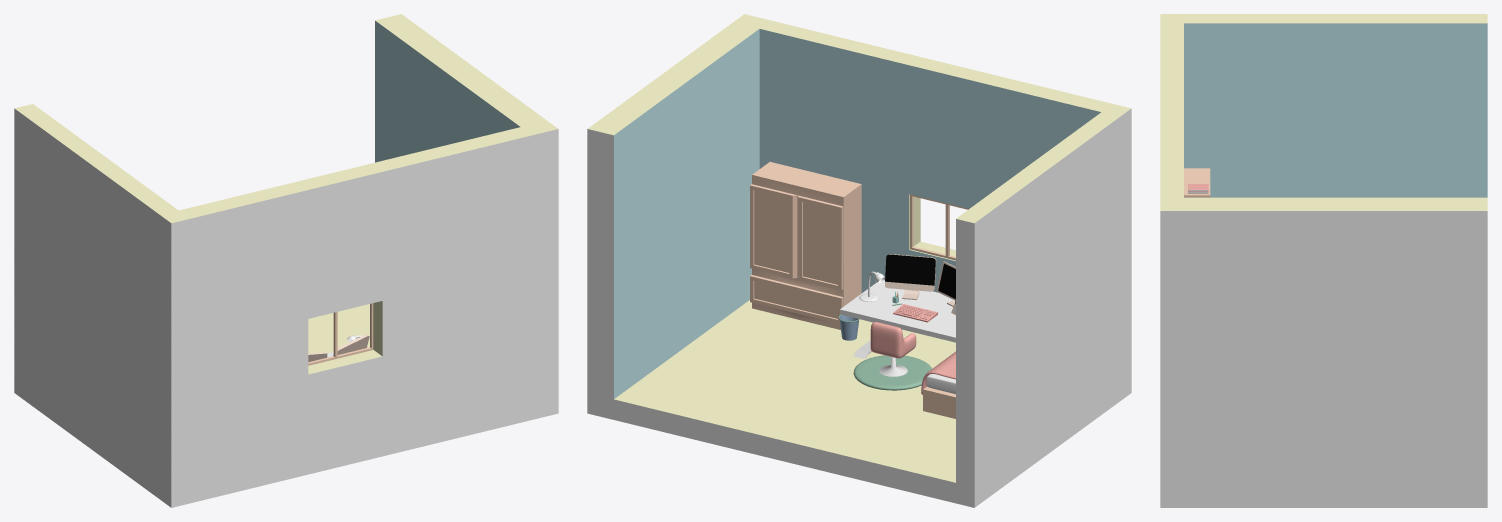
The model's file is Study_Room_22.glb.
The picture shows the model from 3 angles, left to right: view 1: azimuth 30°, elevation 25°; view 2: azimuth 150°, elevation 25°; view 3: azimuth 270°, elevation 25°; orthographic projection. The views are drawn at different scales.
Parts seen in each view (by area): view 1: Room, Window Frame; view 2: Room, Closet, Table Top, Rug, Desktop Screen, Chair, Bedframe, Window Frame; view 3: Room, Shelf.001.
Part boxes in pixels (x1,y1,x2,y2): Room: [14, 14, 558, 507]; Window Frame: [308, 303, 373, 365]; Room: [587, 14, 1131, 507]; Closet: [750, 162, 861, 329]; Table Top: [840, 279, 955, 342]; Rug: [853, 355, 931, 390]; Desktop Screen: [885, 254, 935, 285]; Chair: [870, 322, 916, 358]; Bedframe: [923, 386, 955, 418]; Window Frame: [910, 194, 968, 260]; Room: [1160, 14, 1487, 507]; Shelf.001: [1184, 168, 1210, 197].
Bounding box in the file's own units: 27.72 × 19.48 × 19.48.
